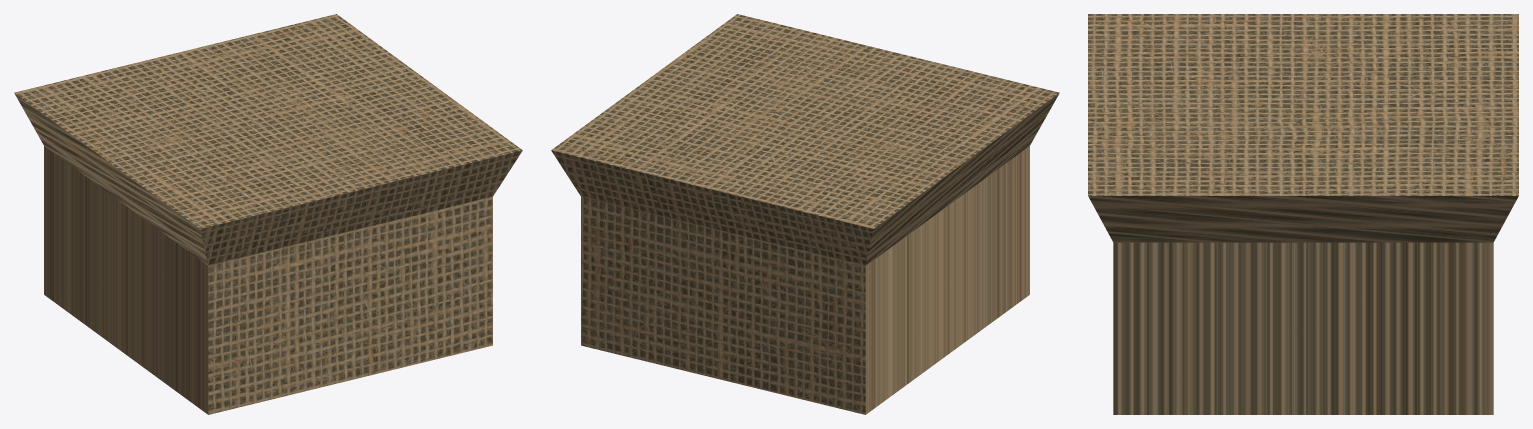
Rendered from sandbag_bunker.glb.
3 renders of one model, left to right at view 1: azimuth 30°, elevation 25°; view 2: azimuth 150°, elevation 25°; view 3: azimuth 270°, elevation 25°, orthographic. The views are drawn at different scales.
Visible parts, largest first — view 1: SandbagBunker; view 2: SandbagBunker; view 3: SandbagBunker.
Boxes of the visible parts, x1,y1,x2,y2 form: SandbagBunker: [14, 14, 522, 414]; SandbagBunker: [551, 14, 1059, 414]; SandbagBunker: [1088, 14, 1518, 414].
Size of the model in its own units: 3.4 by 2 by 3.4.
1 material, 1 textured.
